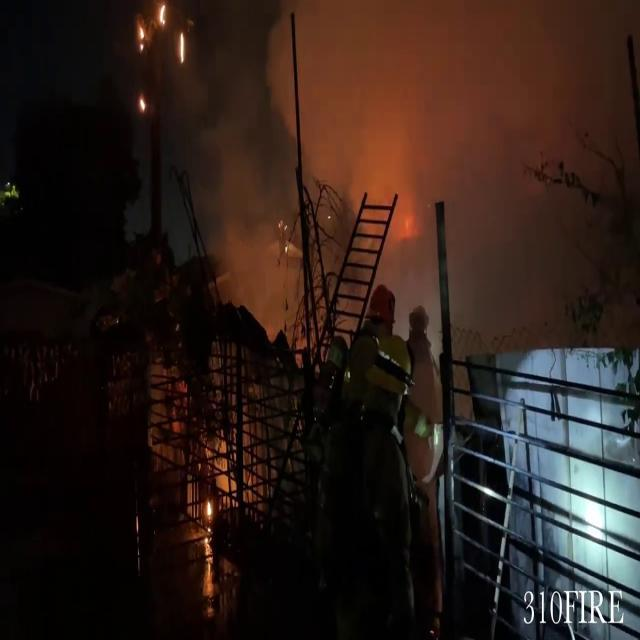Smoke: (181, 0, 639, 311)
